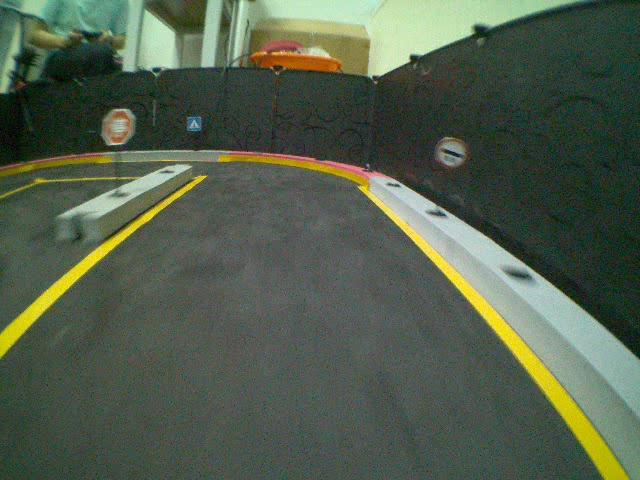Check: (434, 134, 469, 170)
Stop: (99, 107, 137, 145)
crossing: (186, 116, 201, 132)
